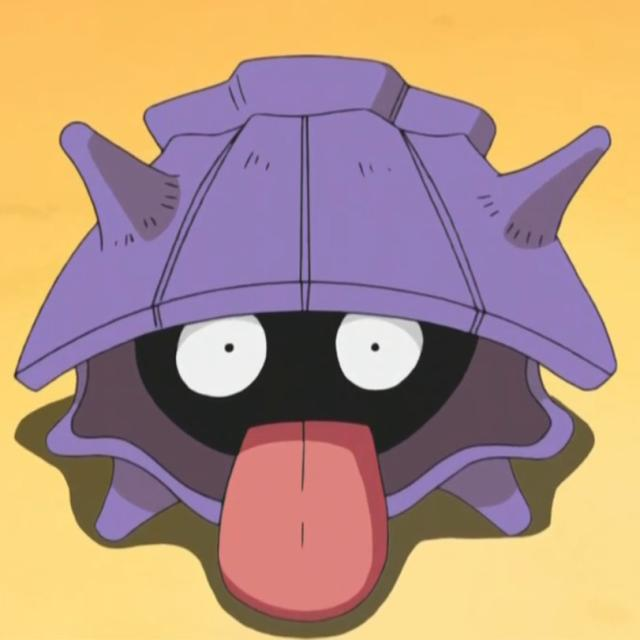Shellder: (23, 57, 636, 581)
